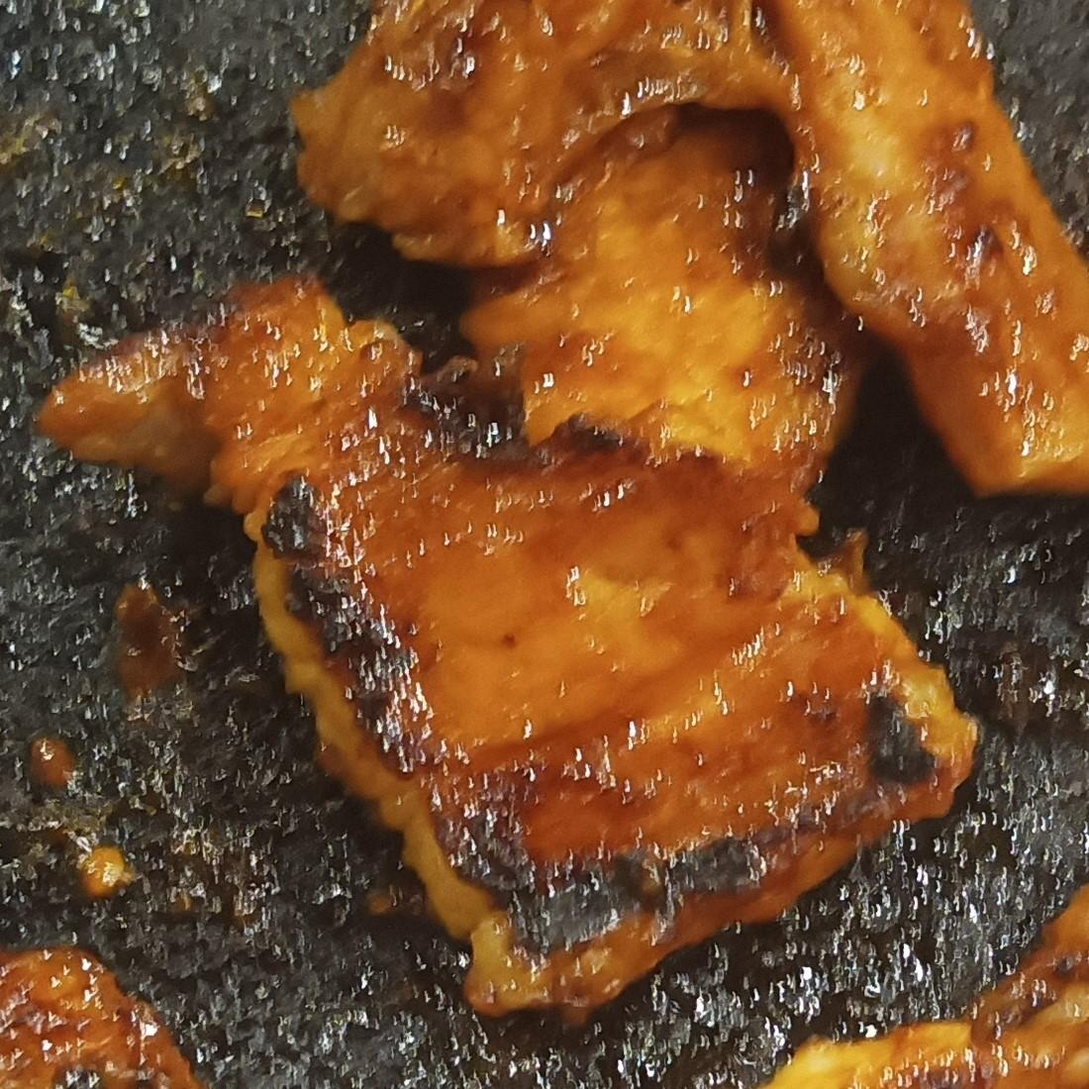Overcooked: (38, 277, 977, 1019), (764, 885, 1088, 1088), (0, 947, 204, 1088)
Well-Cooked: (293, 0, 1088, 493), (462, 113, 857, 477)
